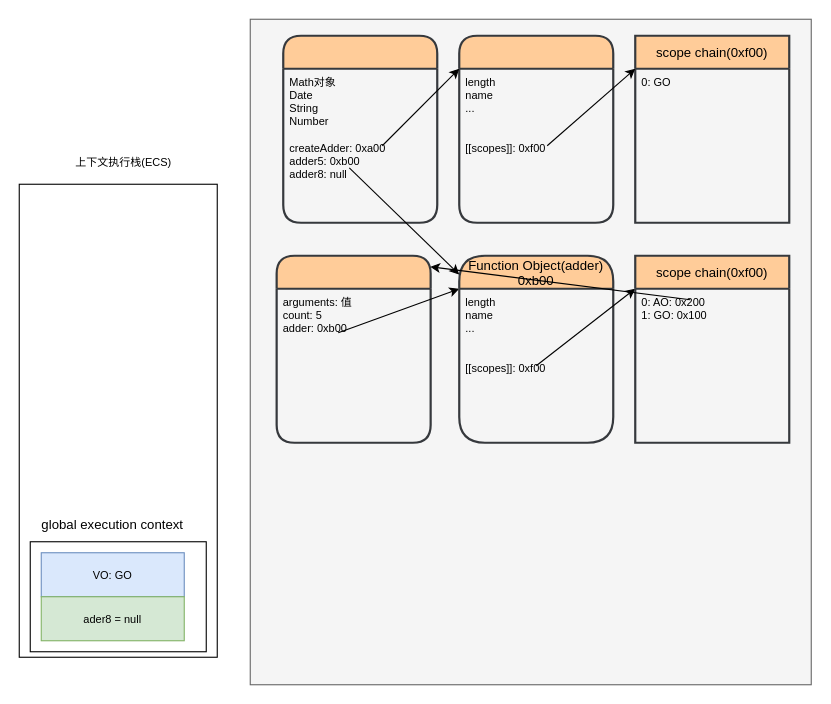
Image size: 831x704. Some labels were removed from this diagram. The shapes that lost their labels are listed below. From the top down, each one's box as (x1, y1, x2, y2) in pixels, then its label:
(282, 34, 438, 223): Global Object(window 0x100)
(458, 34, 614, 223): Function Object(createAdder) 0xa00
(275, 254, 431, 443): Activation Object(0x200)
